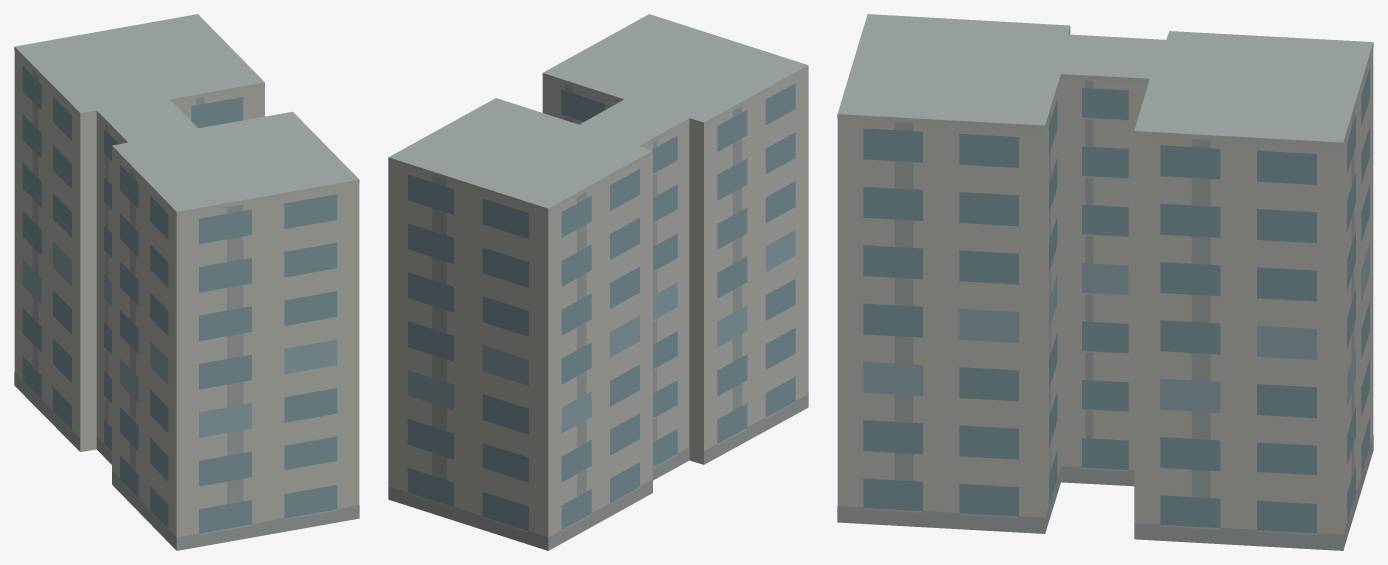
Rendered from survey-upis-32654370.glb.
The picture shows the model from 3 angles, left to right: view 1: azimuth 30°, elevation 25°; view 2: azimuth 150°, elevation 25°; view 3: azimuth 270°, elevation 25°; orthographic projection. The views are drawn at different scales.
Visible parts, largest first — view 1: survey-upis-32654370.tmp; view 2: survey-upis-32654370.tmp; view 3: survey-upis-32654370.tmp.
Part boxes in pixels (x1,y1,x2,y2): survey-upis-32654370.tmp: (14, 14, 359, 550); survey-upis-32654370.tmp: (388, 14, 808, 550); survey-upis-32654370.tmp: (837, 14, 1373, 550).
Size of the model in its own units: 13.65 by 20.2 by 24.04.
